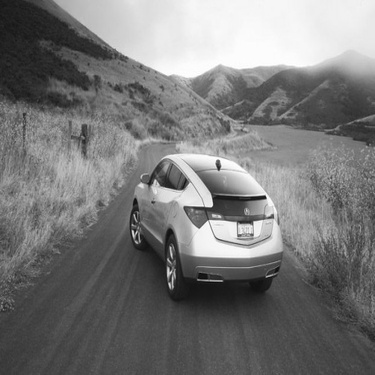car: (126, 147, 290, 306)
